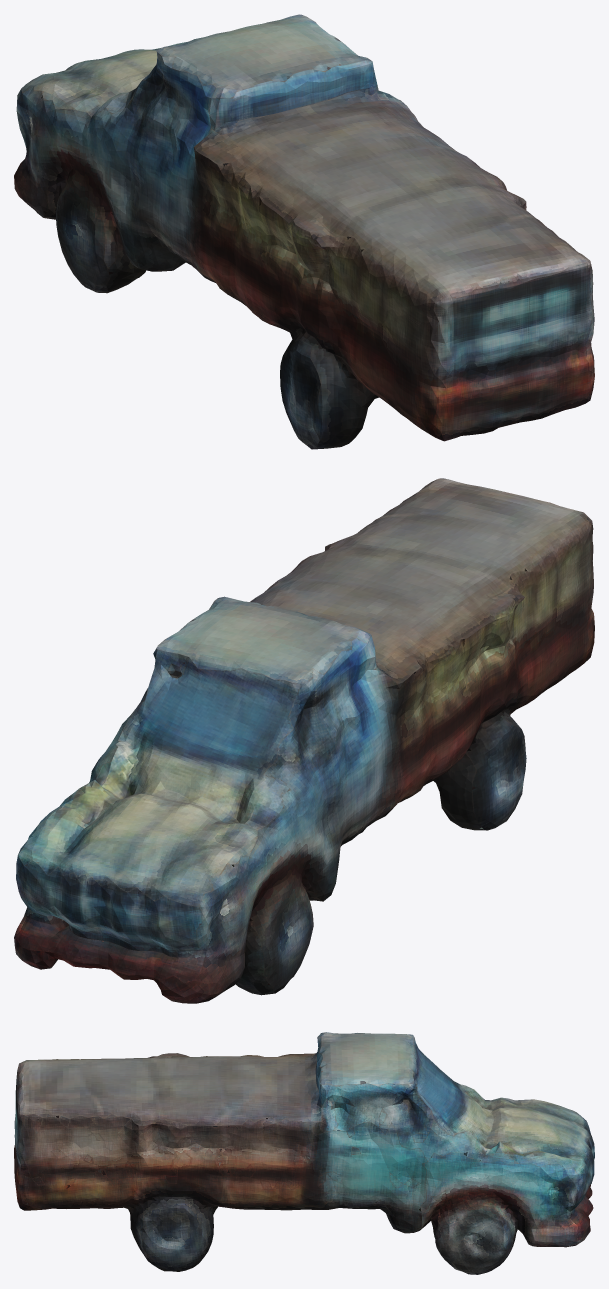
Rendered from a truck.glb.
The picture shows the model from 3 angles, top to bottom: view 1: azimuth 30°, elevation 25°; view 2: azimuth 150°, elevation 25°; view 3: azimuth 270°, elevation 25°; orthographic projection. The views are drawn at different scales.
Bounding box in the file's own units: 0.2979 × 0.3645 × 0.9975.
Materials: 1 (1 with a texture image).
